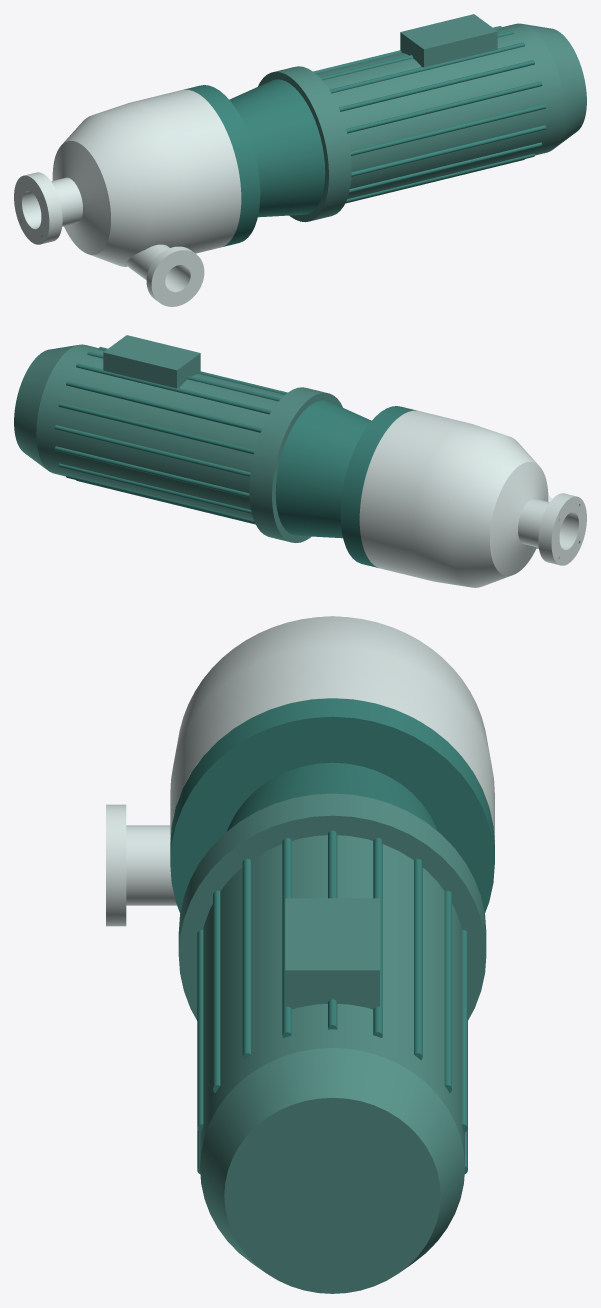
3 renders of one model, top to bottom at view 1: azimuth 30°, elevation 25°; view 2: azimuth 150°, elevation 25°; view 3: azimuth 270°, elevation 25°, orthographic. The views are drawn at different scales.
Visible parts, largest first — view 1: 泵体_圆弧壳与轴向进液口, 电机_带筋机壳, 连接座_短连接段, 电机_连接法兰, 电机_接线盒, 连接座_泵壳连接环, 电机_圆弧尾罩, 接口_朝上出液法兰, 电机_散热筋04, 电机_散热筋05, 电机_散热筋03, 接口_偏置竖向出液管 (+5 smaller); view 2: 泵体_圆弧壳与轴向进液口, 电机_带筋机壳, 连接座_短连接段, 电机_连接法兰, 电机_接线盒, 连接座_泵壳连接环, 电机_圆弧尾罩, 电机_散热筋16, 电机_散热筋15, 电机_散热筋17, 电机_散热筋14, 电机_散热筋18 (+4 smaller); view 3: 电机_圆弧尾罩, 电机_带筋机壳, 连接座_泵壳连接环, 泵体_圆弧壳与轴向进液口, 电机_连接法兰, 电机_接线盒, 连接座_短连接段, 接口_偏置竖向出液管, 接口_朝上出液法兰, 电机_散热筋03, 电机_散热筋17, 电机_散热筋04 (+6 smaller).
Boxes of the visible parts, x1,y1,x2,y2 form: 泵体_圆弧壳与轴向进液口: [14, 89, 241, 266]; 电机_带筋机壳: [316, 23, 564, 199]; 连接座_短连接段: [229, 79, 325, 217]; 电机_连接法兰: [258, 66, 351, 222]; 电机_接线盒: [400, 14, 497, 67]; 连接座_泵壳连接环: [184, 85, 260, 246]; 电机_圆弧尾罩: [523, 24, 586, 149]; 接口_朝上出液法兰: [146, 246, 204, 306]; 电机_散热筋04: [346, 81, 542, 133]; 电机_散热筋05: [350, 104, 546, 155]; 电机_散热筋03: [339, 60, 534, 111]; 接口_偏置竖向出液管: [126, 244, 185, 288]; 泵体_圆弧壳与轴向进液口: [359, 410, 586, 587]; 电机_带筋机壳: [36, 344, 284, 520]; 连接座_短连接段: [275, 400, 371, 538]; 电机_连接法兰: [249, 387, 342, 542]; 电机_接线盒: [103, 335, 200, 388]; 连接座_泵壳连接环: [340, 406, 416, 567]; 电机_圆弧尾罩: [14, 345, 77, 469]; 电机_散热筋16: [58, 402, 254, 454]; 电机_散热筋15: [54, 425, 250, 476]; 电机_散热筋17: [66, 381, 261, 432]; 电机_散热筋14: [54, 446, 249, 497]; 电机_散热筋18: [76, 363, 271, 414]; 电机_圆弧尾罩: [200, 1048, 464, 1293]; 电机_带筋机壳: [200, 835, 464, 1165]; 连接座_泵壳连接环: [170, 698, 494, 913]; 泵体_圆弧壳与轴向进液口: [170, 616, 494, 844]; 电机_连接法兰: [178, 793, 486, 1020]; 电机_接线盒: [285, 898, 379, 1009]; 连接座_短连接段: [226, 762, 438, 831]; 接口_偏置竖向出液管: [126, 825, 176, 905]; 接口_朝上出液法兰: [106, 804, 126, 926]; 电机_散热筋03: [242, 858, 250, 1059]; 电机_散热筋17: [414, 858, 422, 1059]; 电机_散热筋04: [213, 890, 220, 1092].
Bounding box in the file's own units: 2.15 × 0.5955 × 0.6852.
